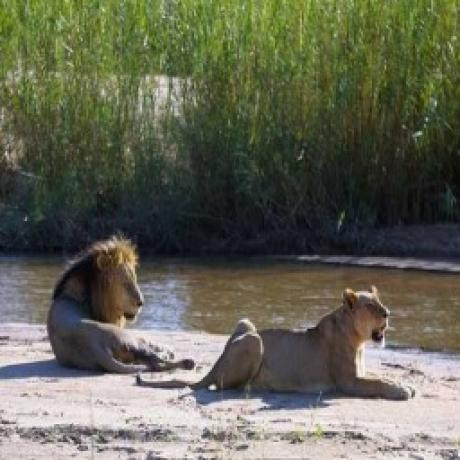Lion: (132, 282, 414, 402), (47, 237, 196, 376)
